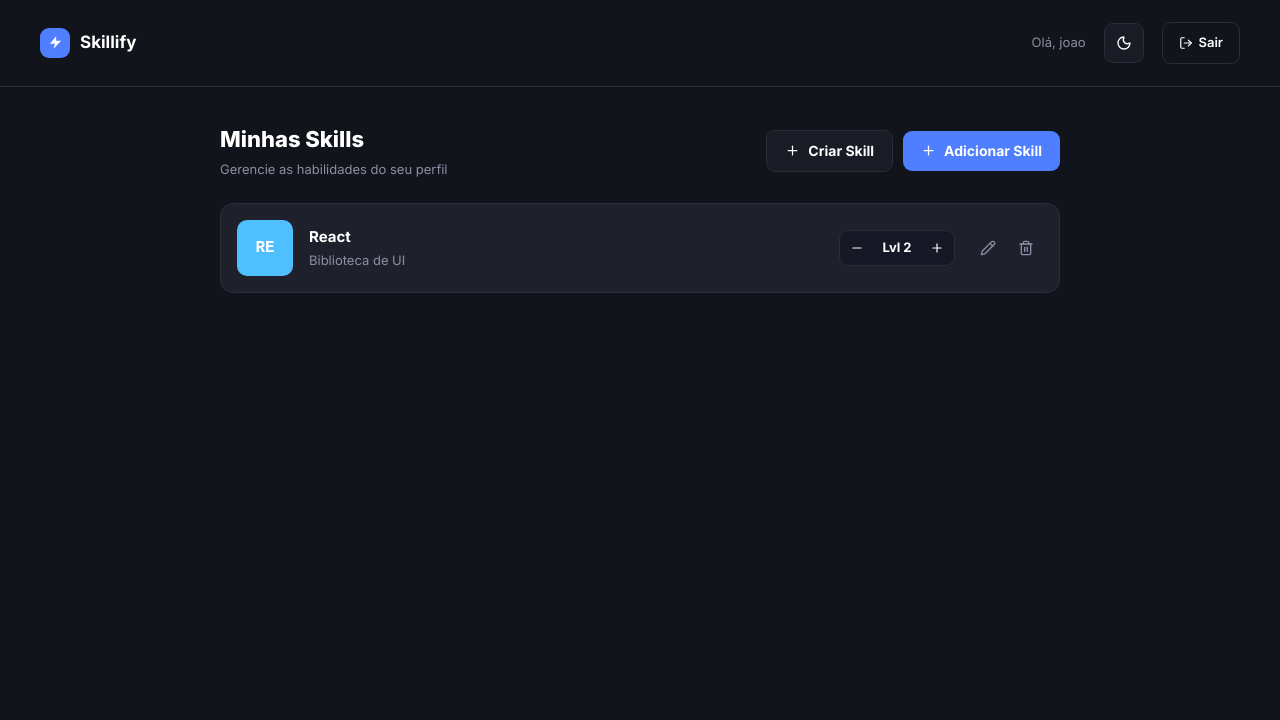
HomePage › edits an existing skill as ADMIN
Expected: the text "React" is shown, left=309, top=227, right=351, bottom=246
Click the button named "Editar skill".
click(988, 248)  # box left=971, top=231, right=1005, bottom=265
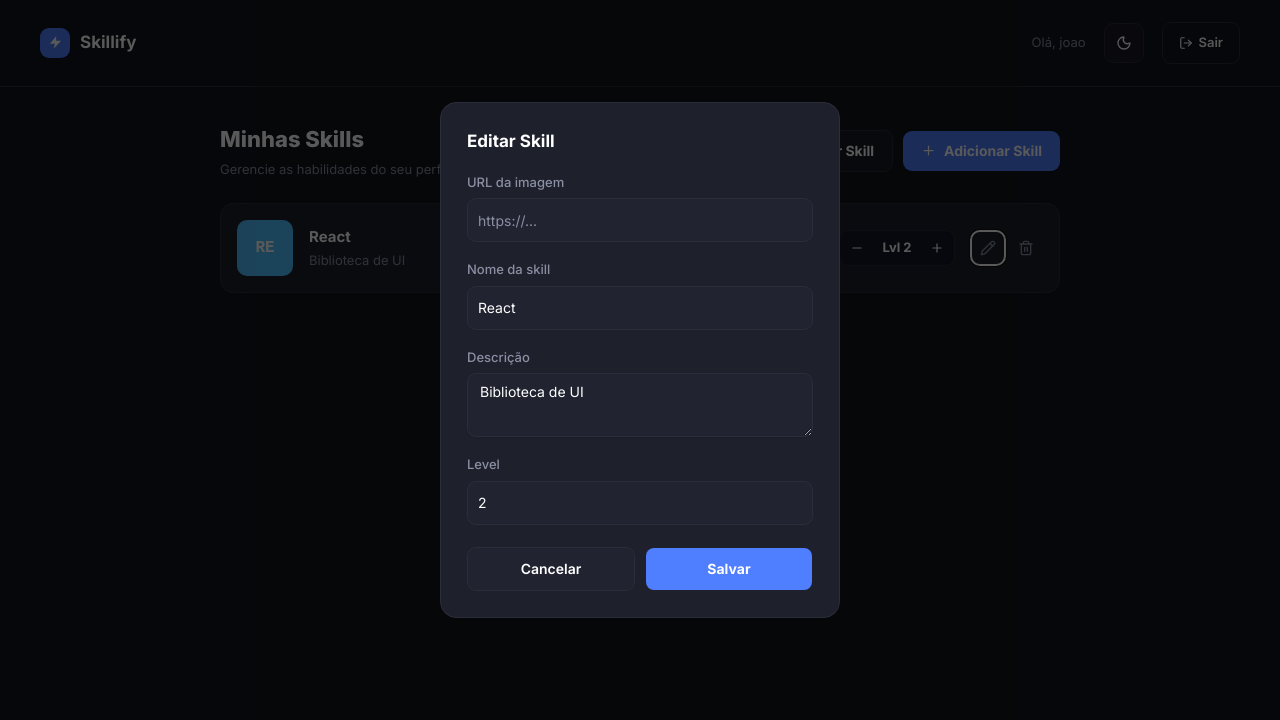
Now the dialog "Editar Skill" is shown, box left=440, top=102, right=840, bottom=618
Replace the text in the text box with placeholder "Descreva a skill" with "Biblioteca de UI para SPAs" at (640,405), box left=467, top=373, right=813, bottom=437
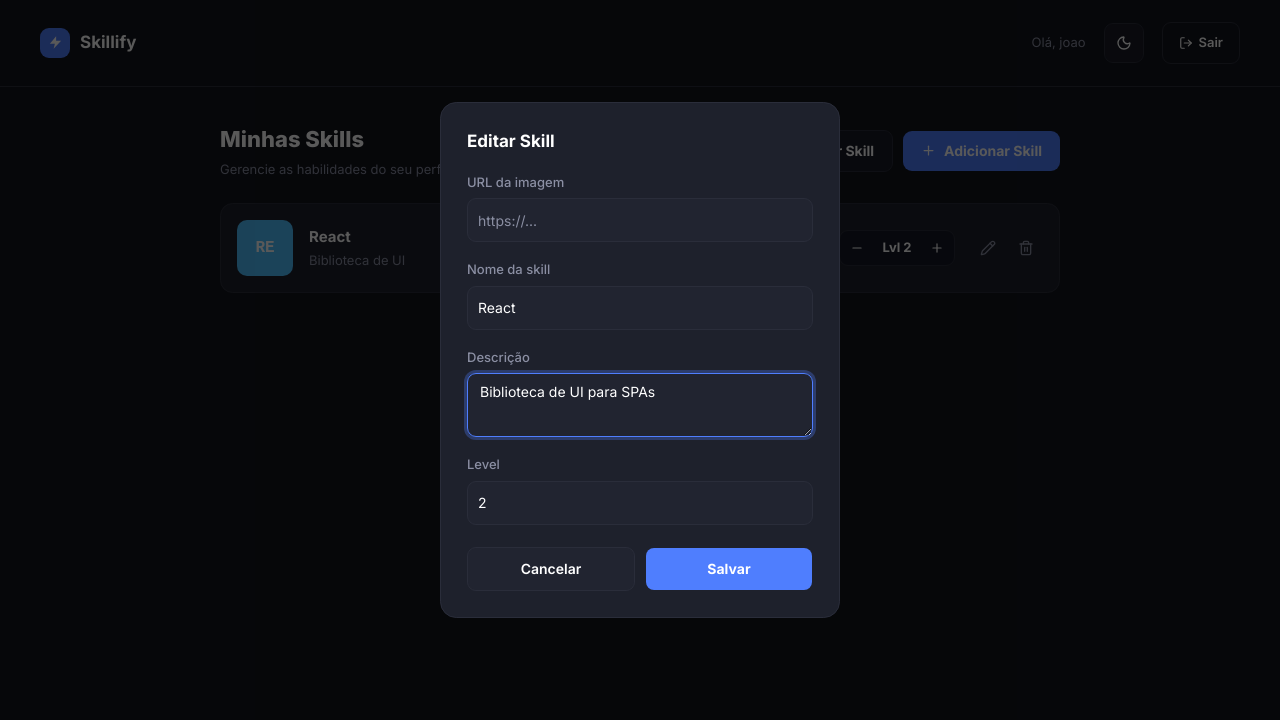
Replace the text in the number field labelled "Level" with "5" at (640,503), box left=467, top=481, right=813, bottom=525
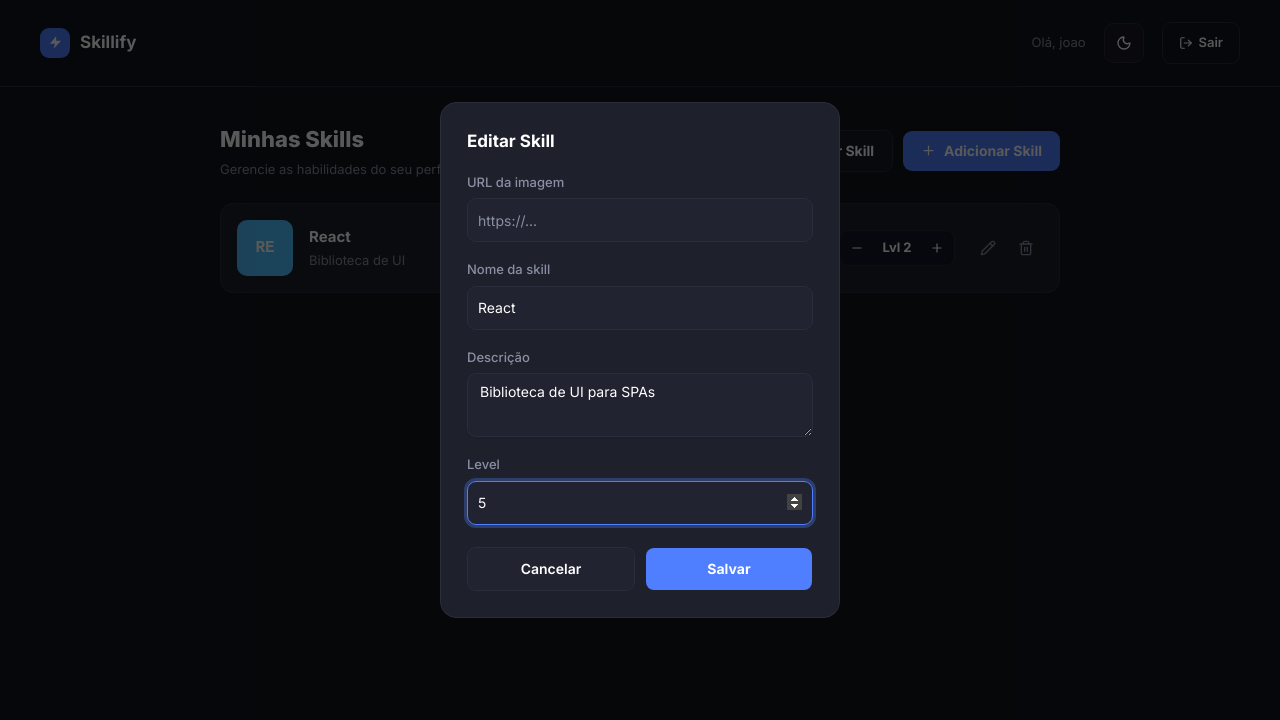
Click the button "Salvar".
click(729, 569)  # box left=645, top=547, right=813, bottom=591
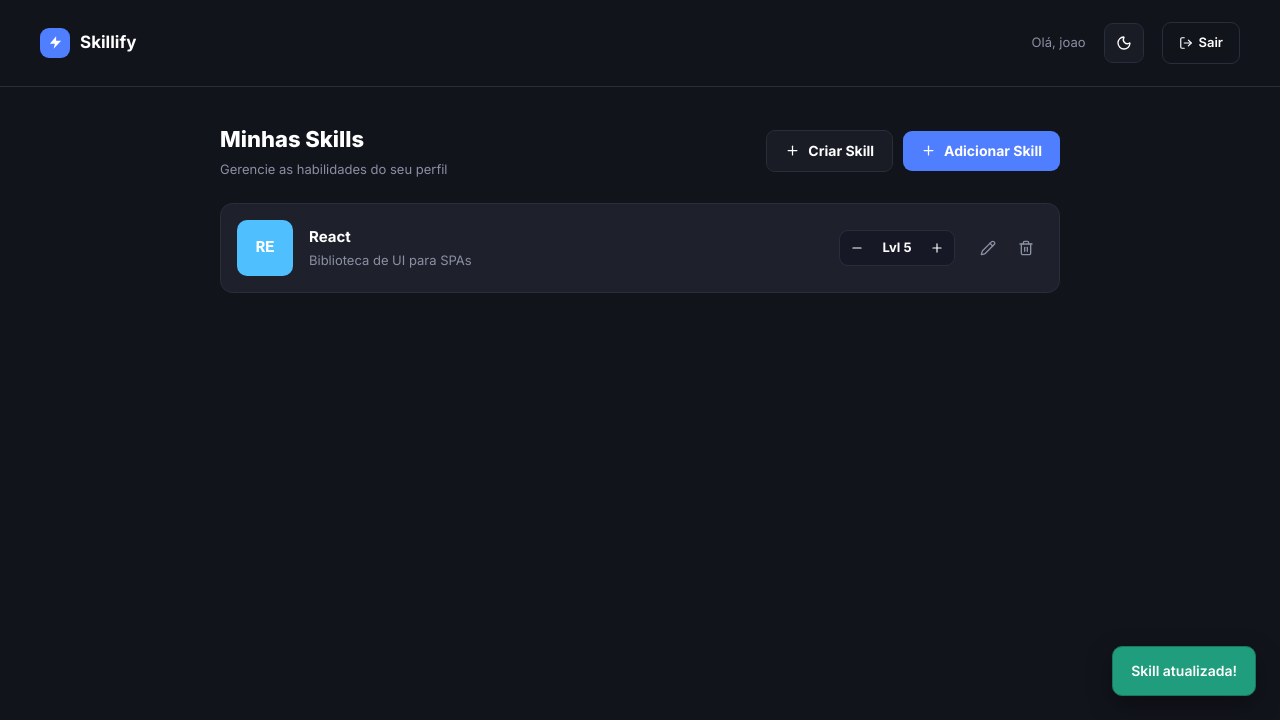
Now the text "Skill atualizada!" is shown, box left=1112, top=646, right=1256, bottom=696
Now the text "Lvl 5" is shown, box left=882, top=239, right=912, bottom=255
